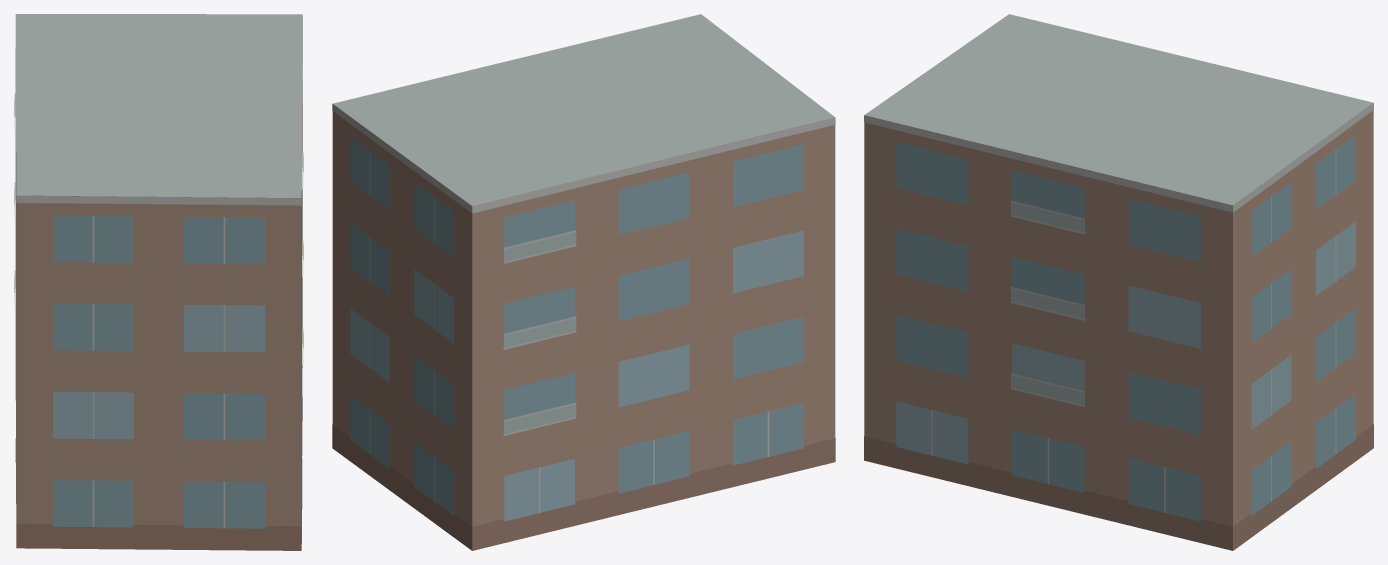
The model's file is survey-upis-32728349.glb.
3 renders of one model, left to right at view 1: azimuth 30°, elevation 25°; view 2: azimuth 150°, elevation 25°; view 3: azimuth 270°, elevation 25°, orthographic. The views are drawn at different scales.
Visible parts, largest first — view 1: survey-upis-32728349.tmp; view 2: survey-upis-32728349.tmp; view 3: survey-upis-32728349.tmp.
Boxes of the visible parts, bbox=[...] form: survey-upis-32728349.tmp: bbox=[14, 14, 303, 550]; survey-upis-32728349.tmp: bbox=[332, 14, 835, 550]; survey-upis-32728349.tmp: bbox=[864, 14, 1373, 550].
Bounding box in the file's own units: 13.79 × 11.6 × 15.51.
